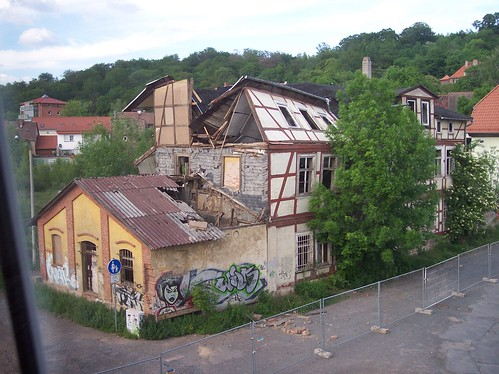building: (39, 91, 340, 302), (27, 99, 101, 152)
graffiti: (153, 257, 274, 322), (110, 283, 147, 321)
sky: (1, 1, 492, 61)
tree: (327, 82, 437, 269)
vegetation: (21, 28, 499, 109)
